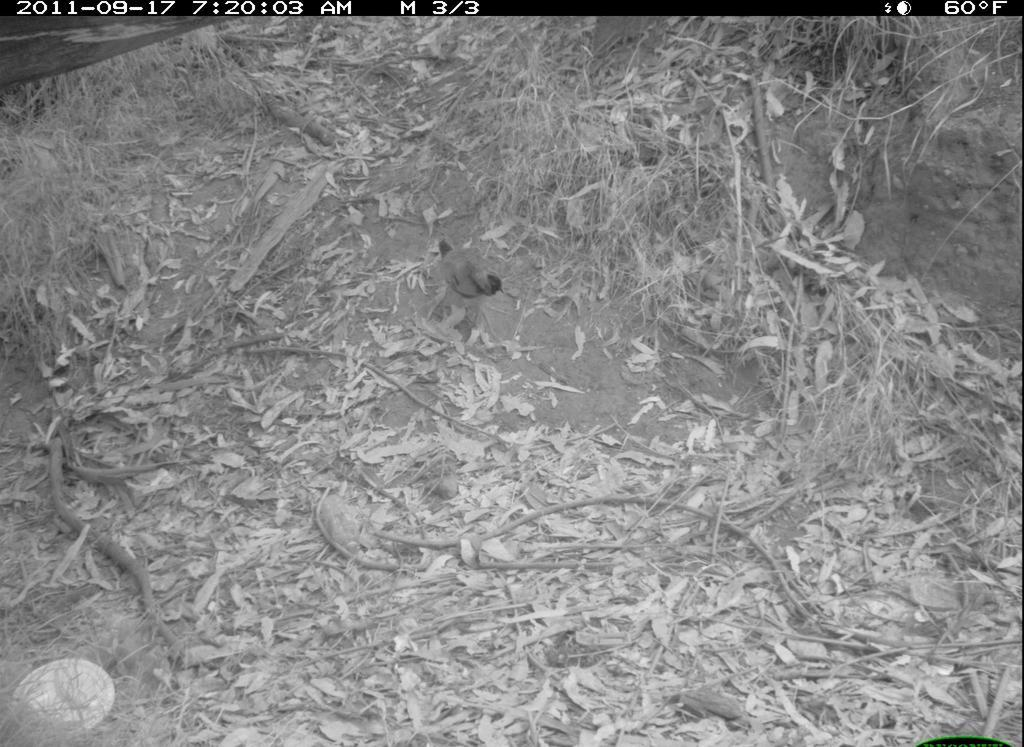bird: (433, 228, 509, 347)
